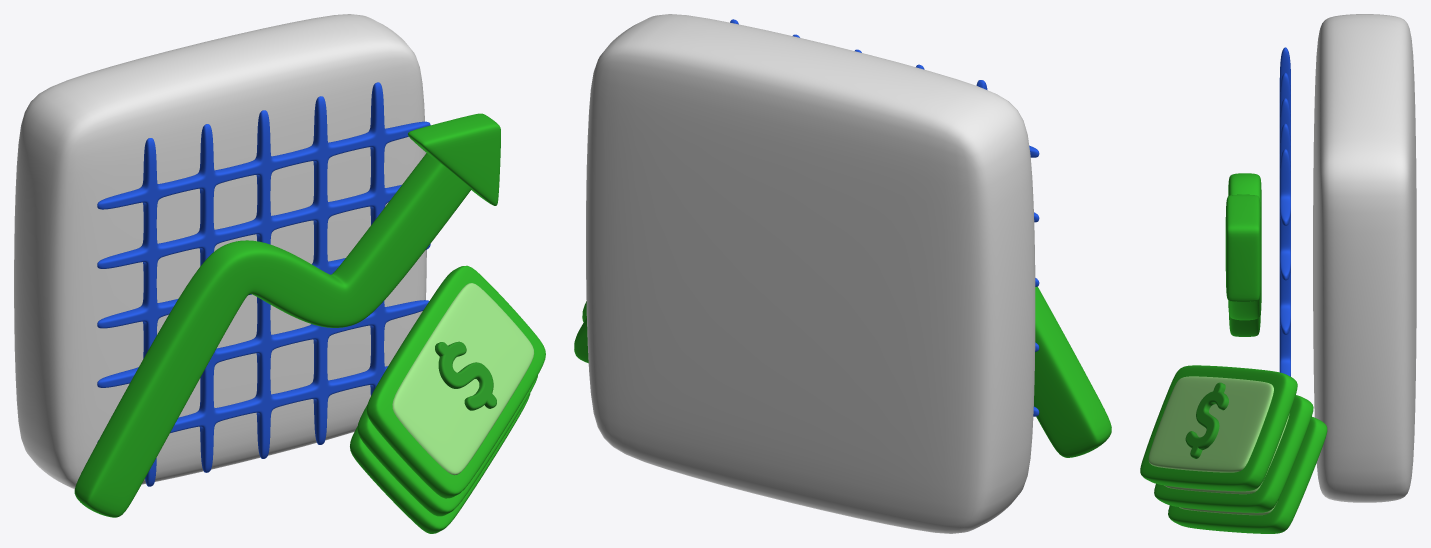
File: business-growth-audit-3d-icon-1491547875682.glb
3 renders of one model, left to right at view 1: azimuth 30°, elevation 25°; view 2: azimuth 150°, elevation 25°; view 3: azimuth 270°, elevation 25°, orthographic. The views are drawn at different scales.
Parts seen in each view (by area): view 1: Base, Line Graph, Grid, Banknote 1, Banknote 2, Text; view 2: Base, Line Graph; view 3: Base, Banknote 1, Banknote 2, Line Graph, Grid, Text.
Boxes of the visible parts, bbox=[...] form: Base: bbox=[14, 14, 426, 489]; Line Graph: bbox=[74, 113, 500, 517]; Grid: bbox=[97, 82, 430, 486]; Banknote 1: bbox=[350, 265, 545, 533]; Banknote 2: bbox=[392, 283, 534, 475]; Text: bbox=[435, 341, 496, 410]; Base: bbox=[586, 14, 1035, 533]; Line Graph: bbox=[1034, 286, 1111, 457]; Base: bbox=[1313, 14, 1416, 502]; Banknote 1: bbox=[1140, 365, 1327, 533]; Banknote 2: bbox=[1148, 376, 1289, 515]; Line Graph: bbox=[1225, 173, 1261, 336]; Grid: bbox=[1279, 47, 1290, 376]; Text: bbox=[1185, 382, 1228, 458].
Size of the model in its own units: 1.51 by 1.35 by 0.8456.
